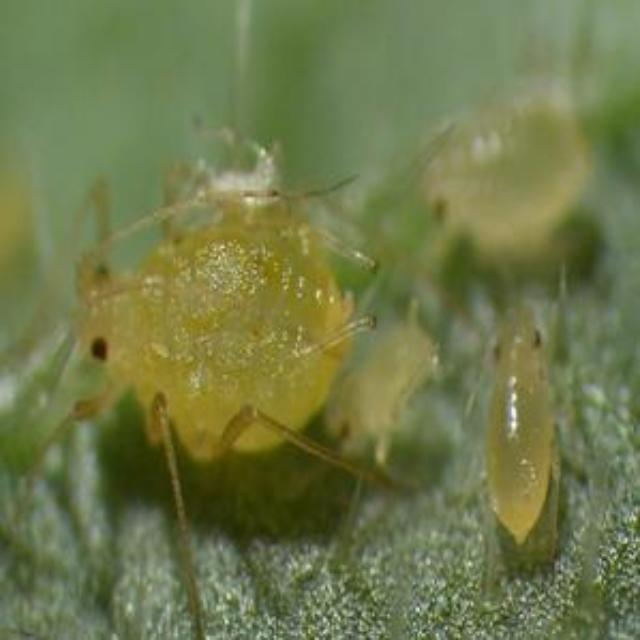Green peach aphid: (29, 138, 401, 528), (399, 58, 615, 256), (448, 288, 596, 542), (320, 289, 440, 483)
